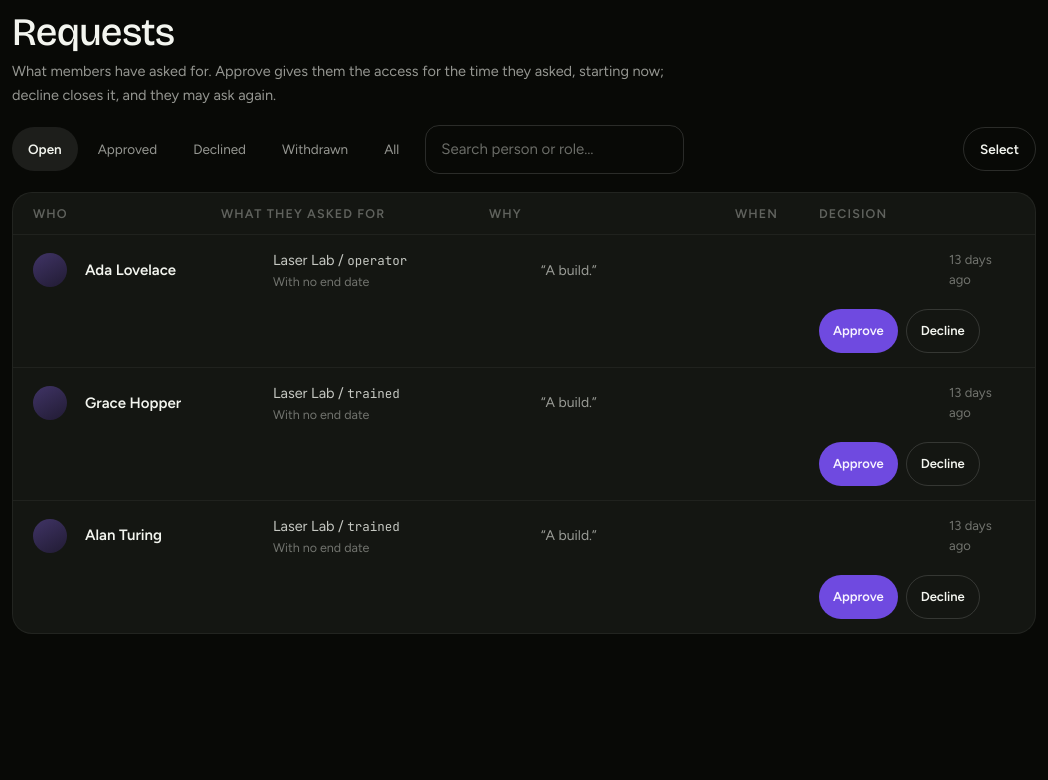
it: the queue's search › finds a request by who asked
Type "grace" into the field named "Search requests". click: (555, 149)
box: [425,125,684,174]
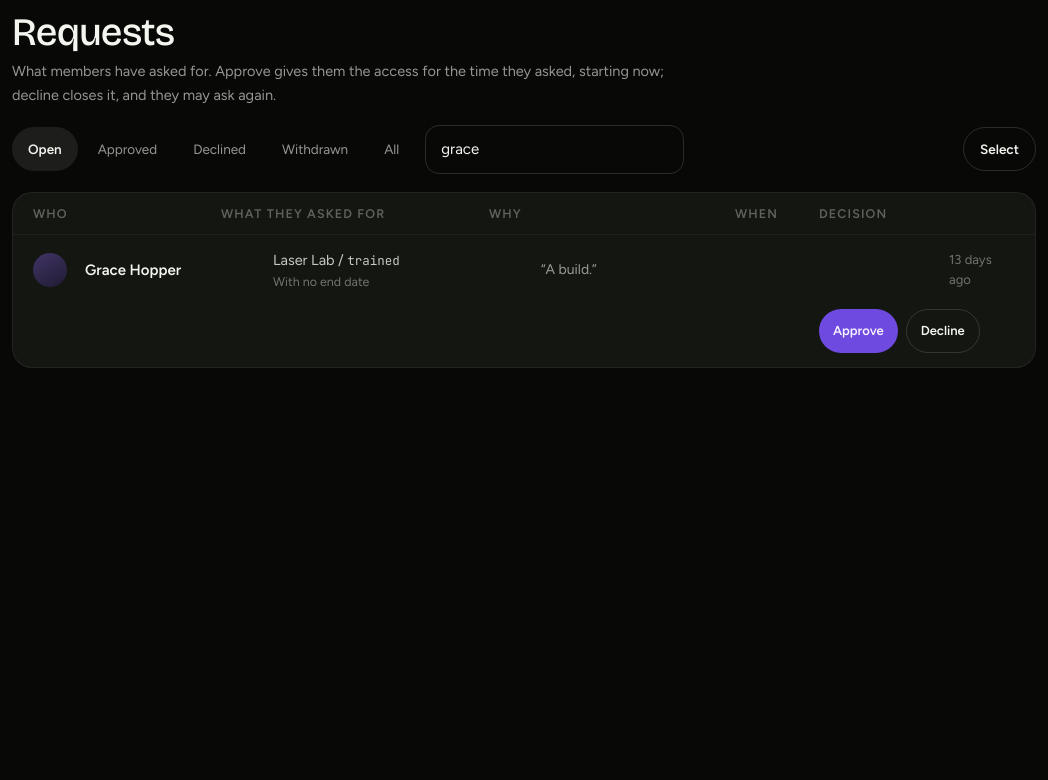
Expected: the text "Grace Hopper" is shown, [85,261,181,279]
Expected: the text "Ada Lovelace" is gone
Expected: the text "Alan Turing" is gone
